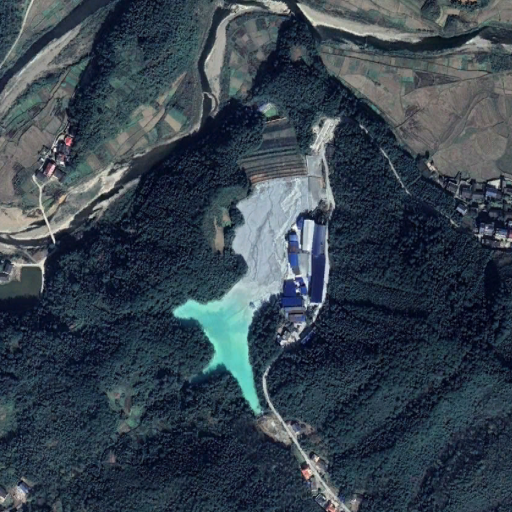tp: (170, 119, 311, 413)
